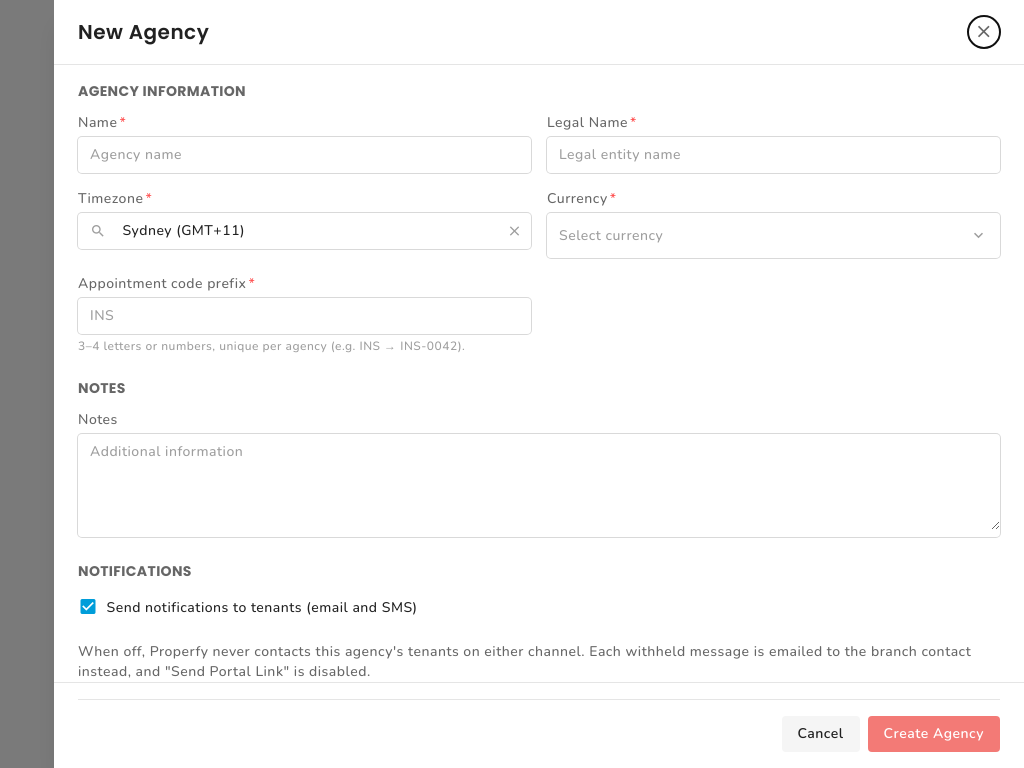
TenantFormDrawer – discard-confirm behavior › shows confirm dialog when cancelling with unsaved changes
Type "Dirty" into the field labelled "name" at (304, 155), box [78,137,531,173]
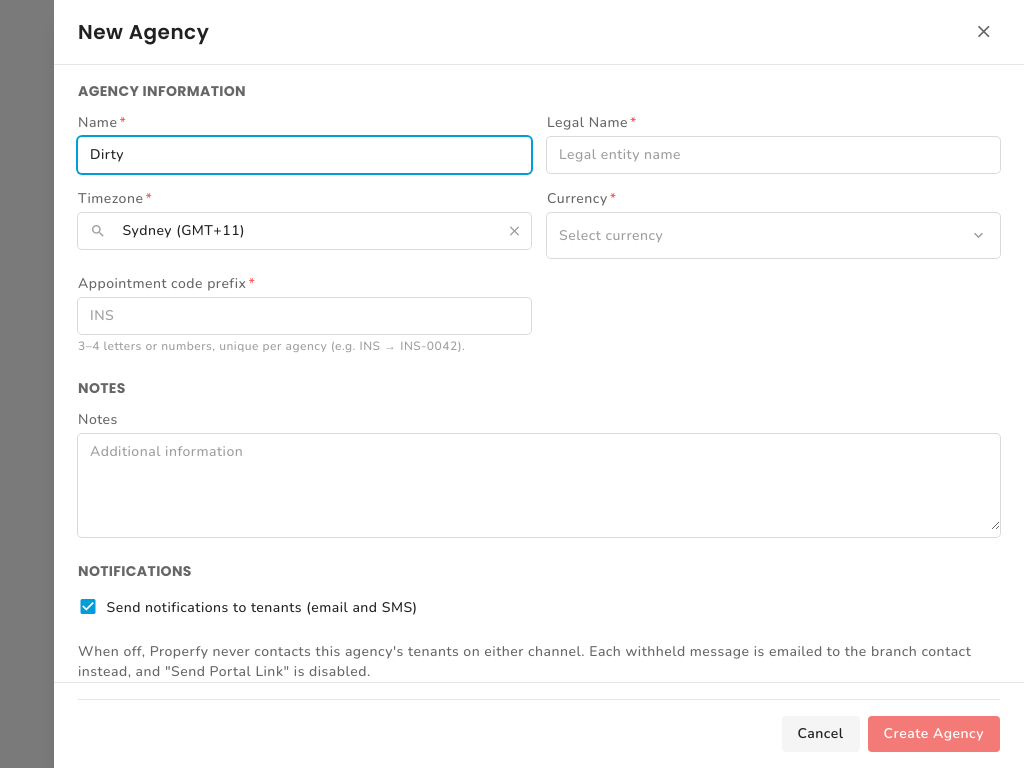
Click the button "Cancel" at (820, 734), box [782,716,860,752]
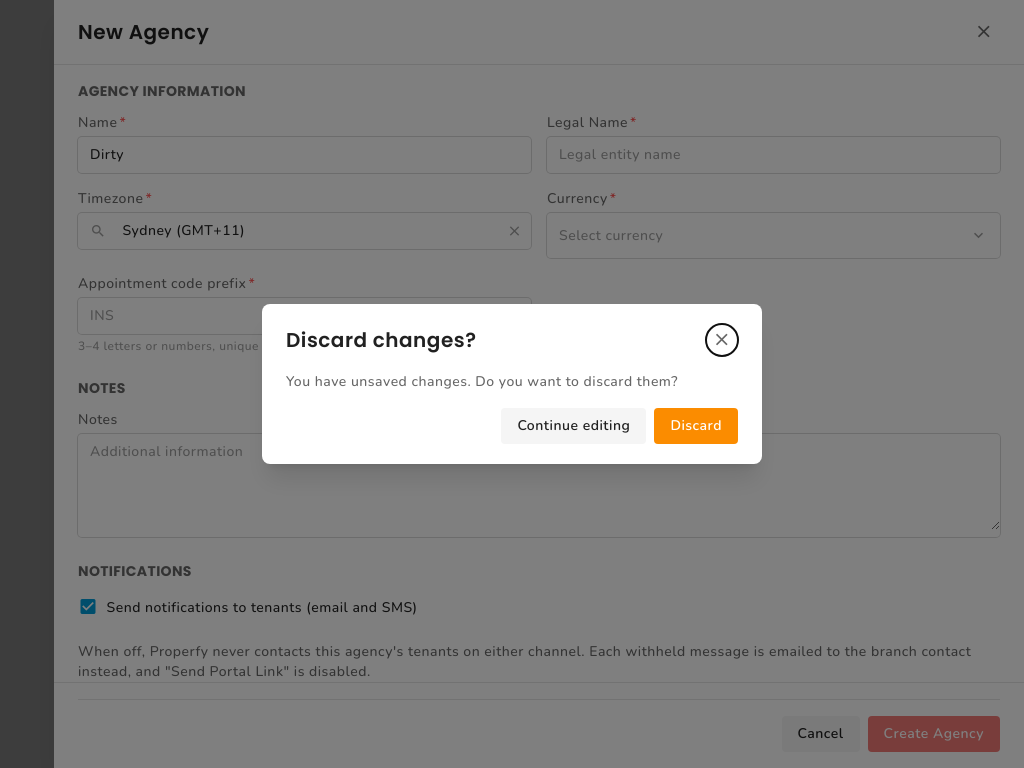
expect the heading "Discard changes?" is shown: met, box [286,326,476,354]
